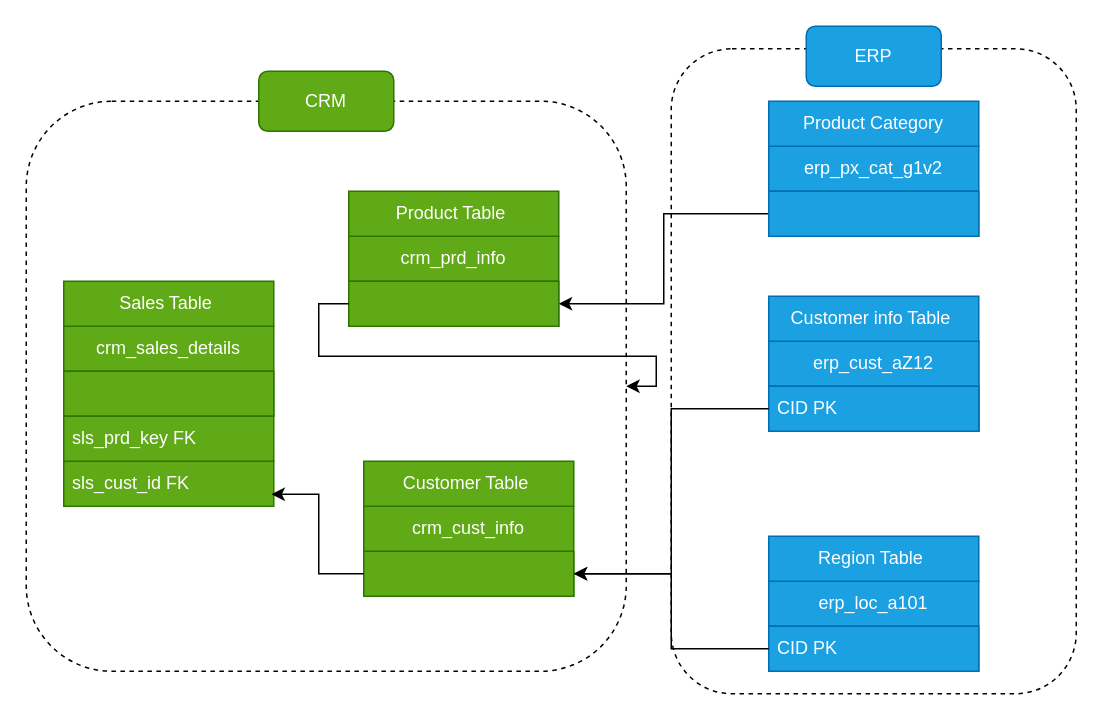
The diagram is 1103 pixels wide and 720 high, and some of its shapes have lost their labels. The shapes that lost their labels are listed below. From the top down, each one's centre as x and y in pixels, then its label:
At pixel 873 213: "ID PK".
At pixel 453 303: "cat_id PK".
At pixel 168 393: "sls_ord_num PK".
At pixel 468 573: "cst_id PK".
